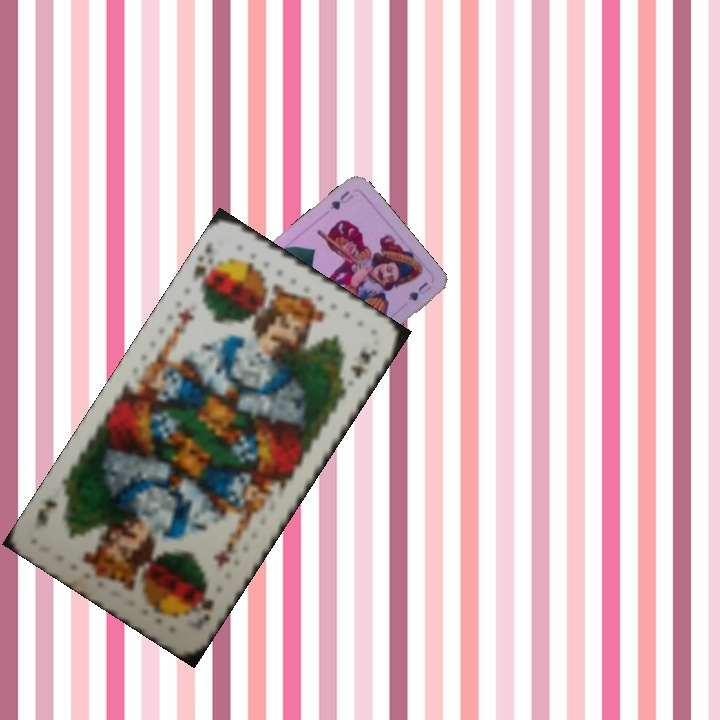GU: (326, 186, 356, 212)
SK: (189, 252, 213, 295), (192, 582, 217, 623)
